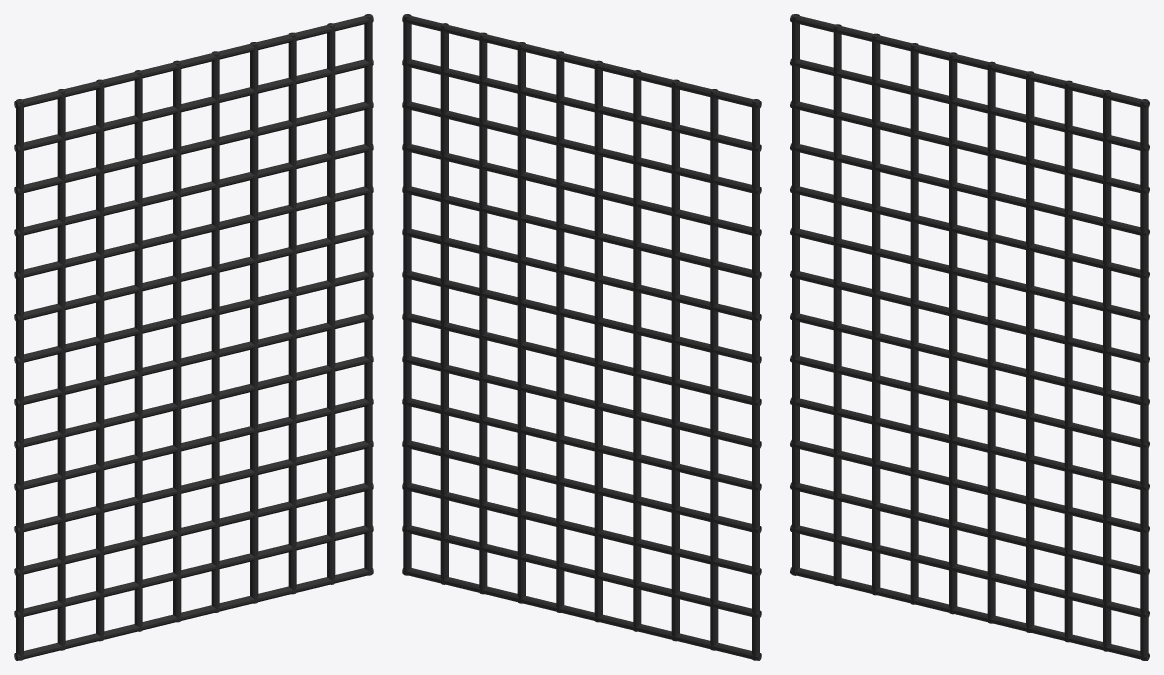
File: bars.glb
3 views of the same model, side by side, from view 1: azimuth 30°, elevation 25°; view 2: azimuth 150°, elevation 25°; view 3: azimuth 330°, elevation 25° (orthographic).
Visible parts, largest first — view 1: bars; view 2: bars; view 3: bars.
Boxes of the visible parts, x1=… form: bars: x1=14, y1=14, x2=373, y2=660; bars: x1=402, y1=14, x2=761, y2=660; bars: x1=790, y1=14, x2=1149, y2=660.
Size of the model in its own units: 2 by 3.01 by 0.038.
1 material, 1 textured.
